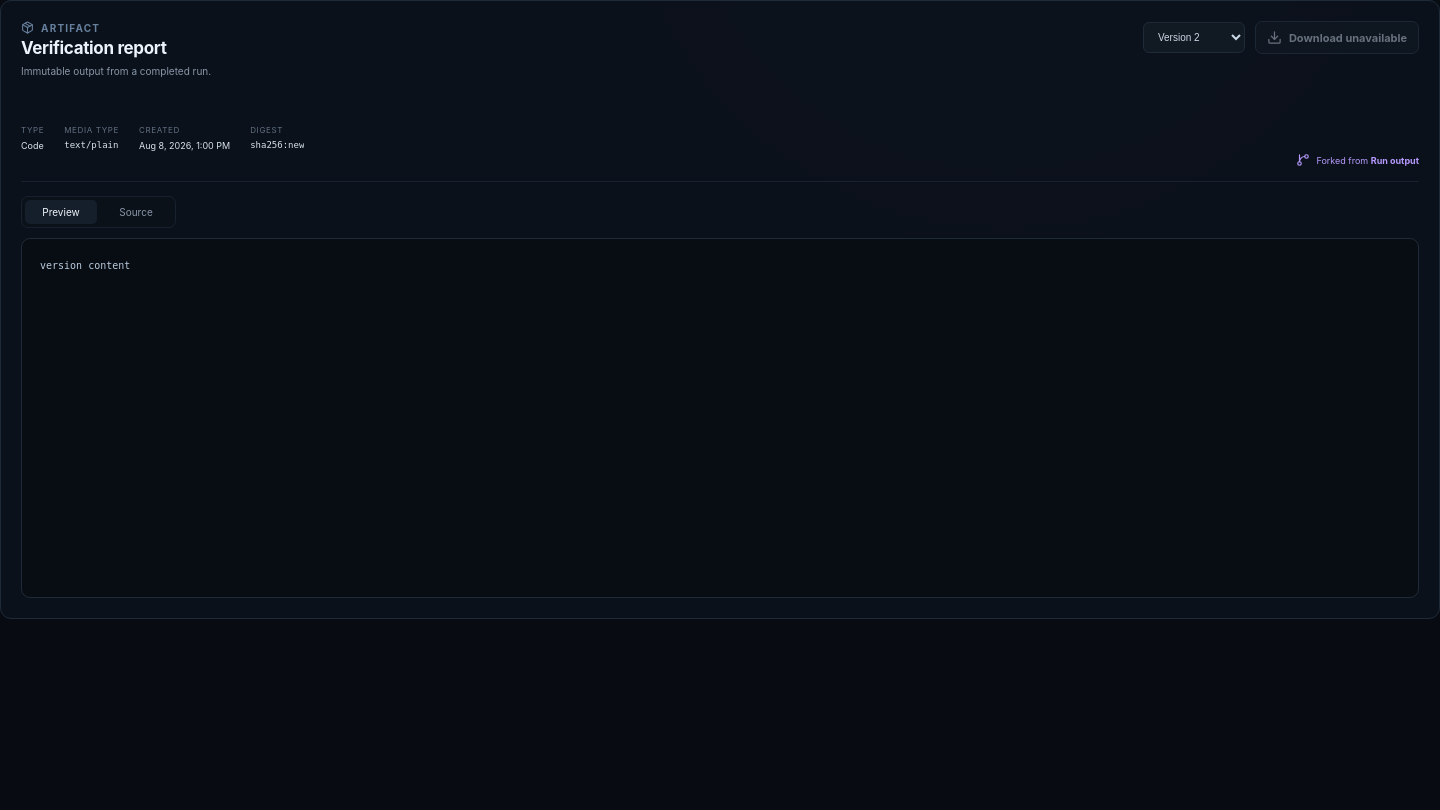
ArtifactWorkspace › selects immutable versions and notifies the caller
Select "Version 1" in the dropdown named "Artifact version" at [1194, 38], box [1143, 22, 1245, 53]
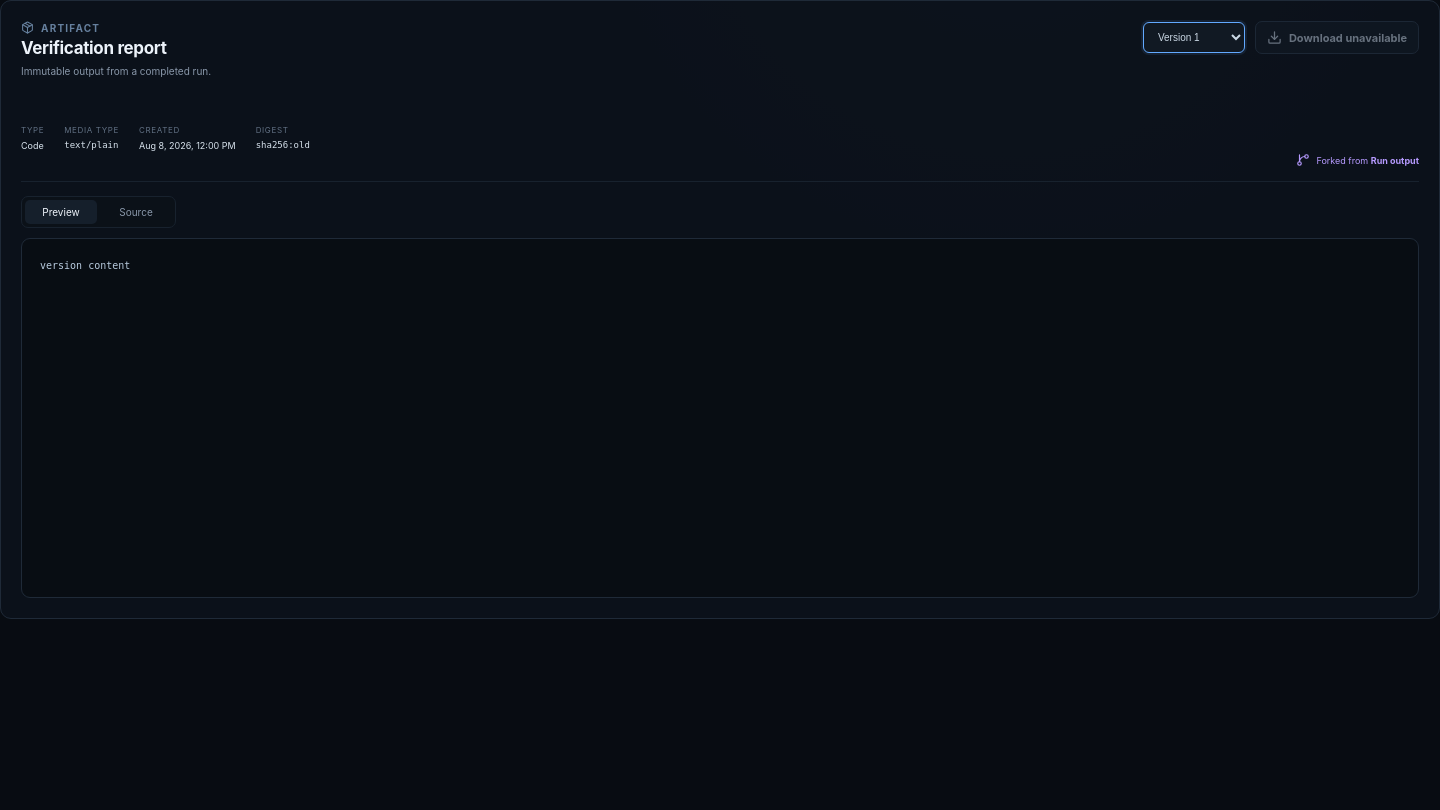
Expected: the text "sha256:old" is shown, [256, 140, 310, 150]
